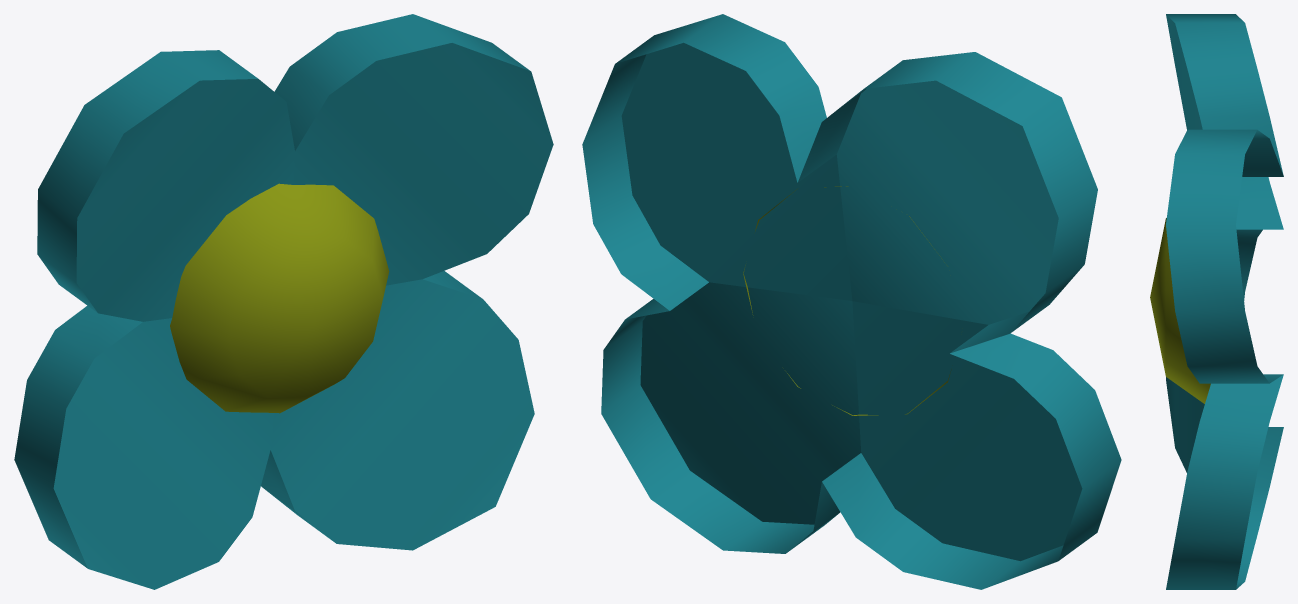
File: plant_bud_04.fbx
3 renders of one model, left to right at view 1: azimuth 30°, elevation 25°; view 2: azimuth 150°, elevation 25°; view 3: azimuth 270°, elevation 25°, orthographic. The views are drawn at different scales.
Visible parts, largest first — view 1: plant_bud_04; view 2: plant_bud_04; view 3: plant_bud_04.
Boxes of the visible parts, x1,y1,x2,y2 form: plant_bud_04: (14, 14, 553, 589); plant_bud_04: (582, 14, 1121, 589); plant_bud_04: (1150, 14, 1283, 589).
Bounding box in the file's own units: 39.01 × 38.91 × 10.13.
